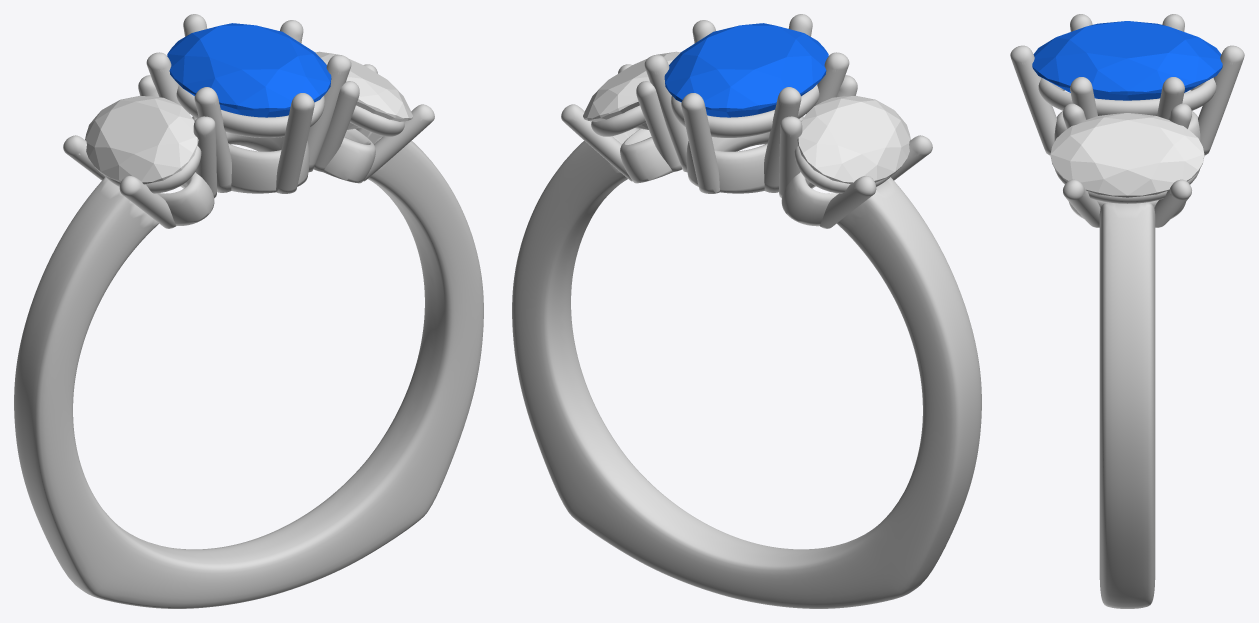
File: bluesapphire-oval-platinum-6prong-europeanshank-3stone.glb
The picture shows the model from 3 angles, left to right: view 1: azimuth 30°, elevation 25°; view 2: azimuth 150°, elevation 25°; view 3: azimuth 270°, elevation 25°; orthographic projection. The views are drawn at different scales.
Parts seen in each view (by area): view 1: metal, stone.001, side.002, side.003; view 2: metal, stone.001, side.002, side.003; view 3: metal, stone.001, side.003.
Part boxes in pixels (x1,y1,x2,y2): metal: [14, 14, 483, 608]; stone.001: [167, 23, 331, 117]; side.002: [85, 95, 198, 184]; side.003: [315, 51, 412, 129]; metal: [512, 14, 981, 608]; stone.001: [664, 23, 828, 117]; side.002: [797, 95, 910, 184]; side.003: [583, 51, 680, 129]; metal: [1010, 14, 1244, 608]; stone.001: [1032, 21, 1222, 100]; side.003: [1050, 113, 1204, 197].
Bounding box in the file's own units: 20.11 × 23.21 × 9.29.
